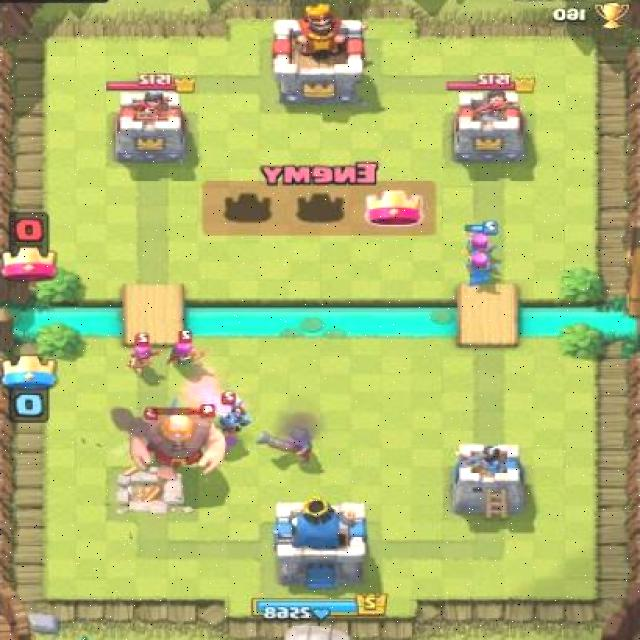Enemy-Archer: (161, 325, 214, 373), (124, 332, 162, 378)
Enemy-Giant: (124, 401, 229, 479)
Enemy-Knight: (122, 404, 164, 455)
Enemy-Minion: (207, 388, 258, 438)
Player-Archer: (452, 216, 502, 266), (457, 253, 498, 290)
Player-Musketeer: (253, 418, 320, 469)
